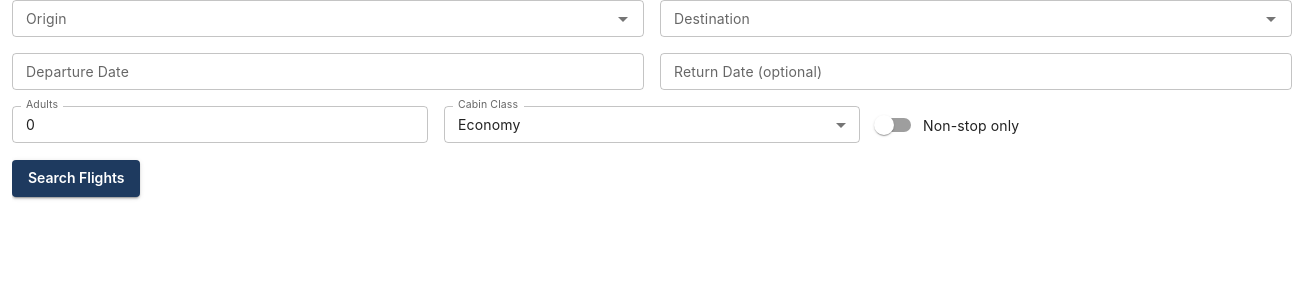
SearchForm › REQ-SEARCH-FORM-S02: rejects adults below minimum (0)
The image size is (1292, 288).
Click the button "Search Flights": (76, 179) [12,160,140,197]
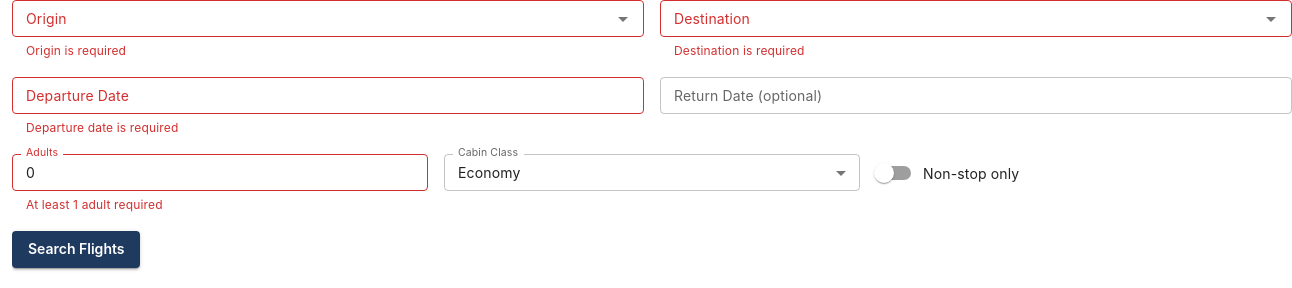
Now the text "At least 1 adult required" is shown, box [26,197,163,212]
